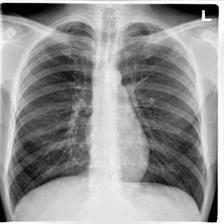tuberculosis: (0, 14, 218, 220)
